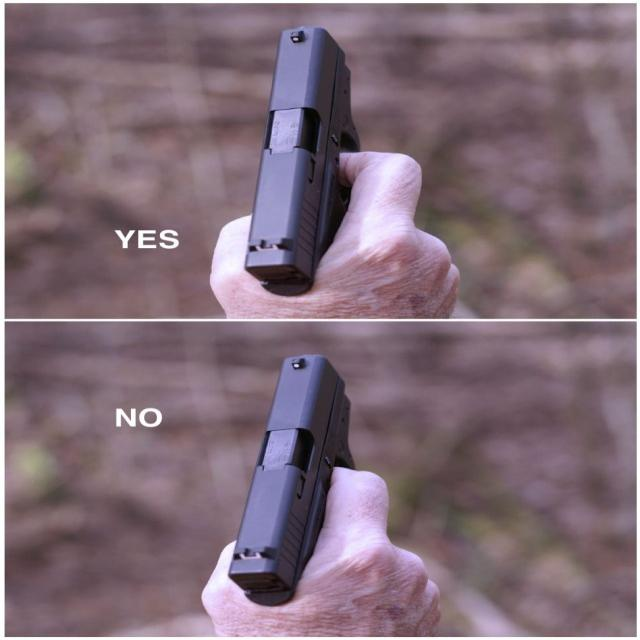HandGun: (241, 28, 357, 298), (227, 356, 350, 610)
